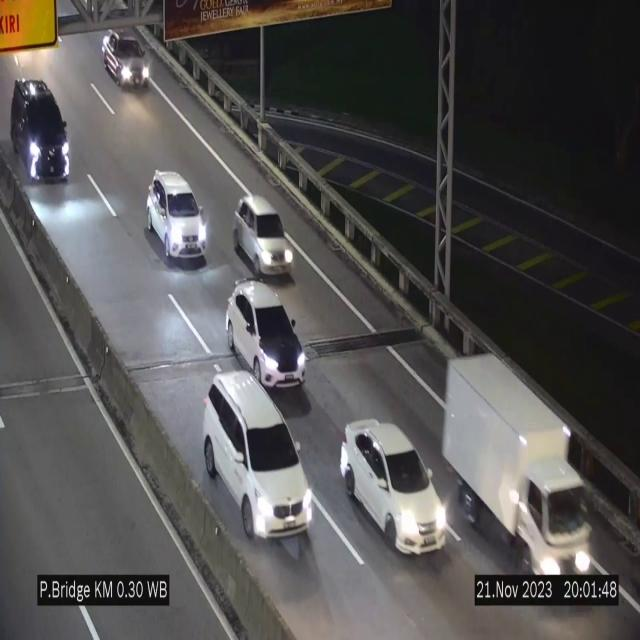Car: (202, 373, 312, 547), (341, 420, 447, 552), (227, 280, 306, 389), (9, 75, 73, 183), (147, 170, 208, 260), (233, 195, 293, 278), (101, 28, 150, 91)
Truck: (442, 350, 593, 576)
